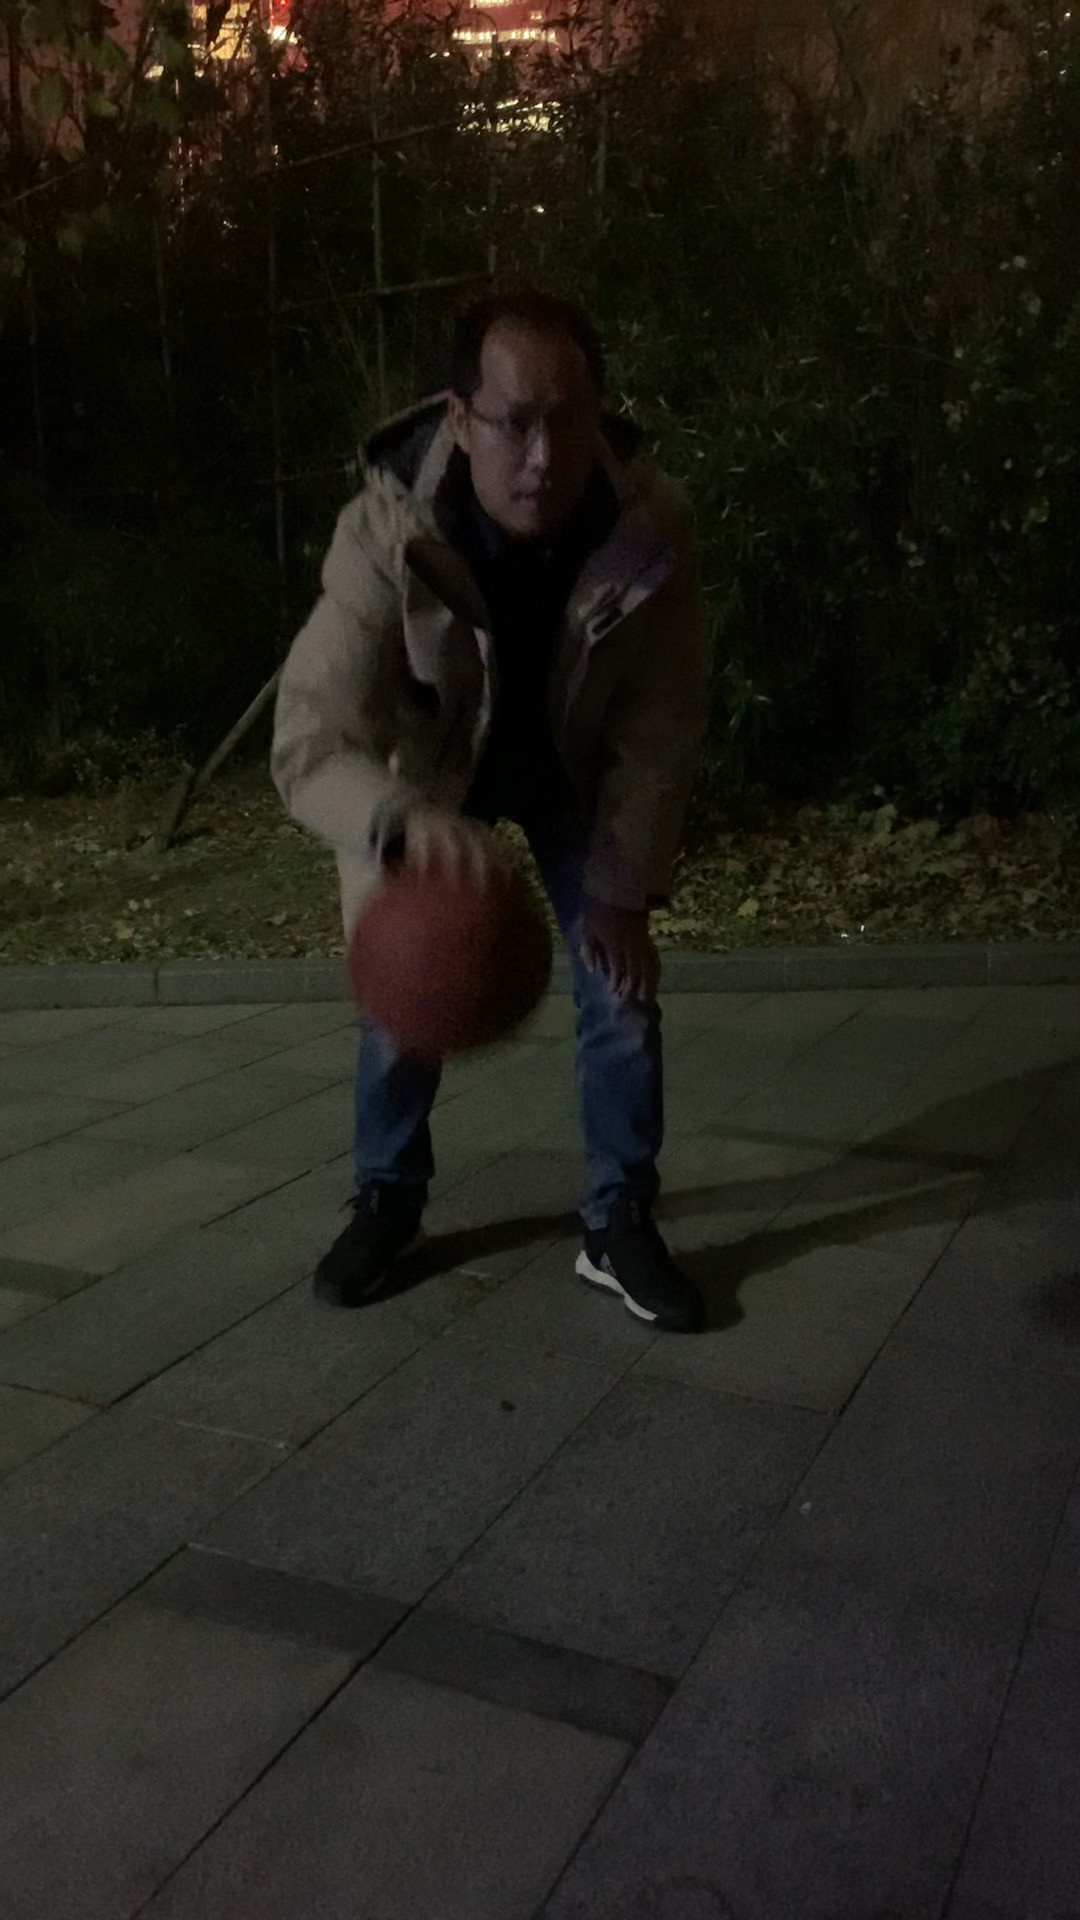ball: (352, 845, 556, 1058)
